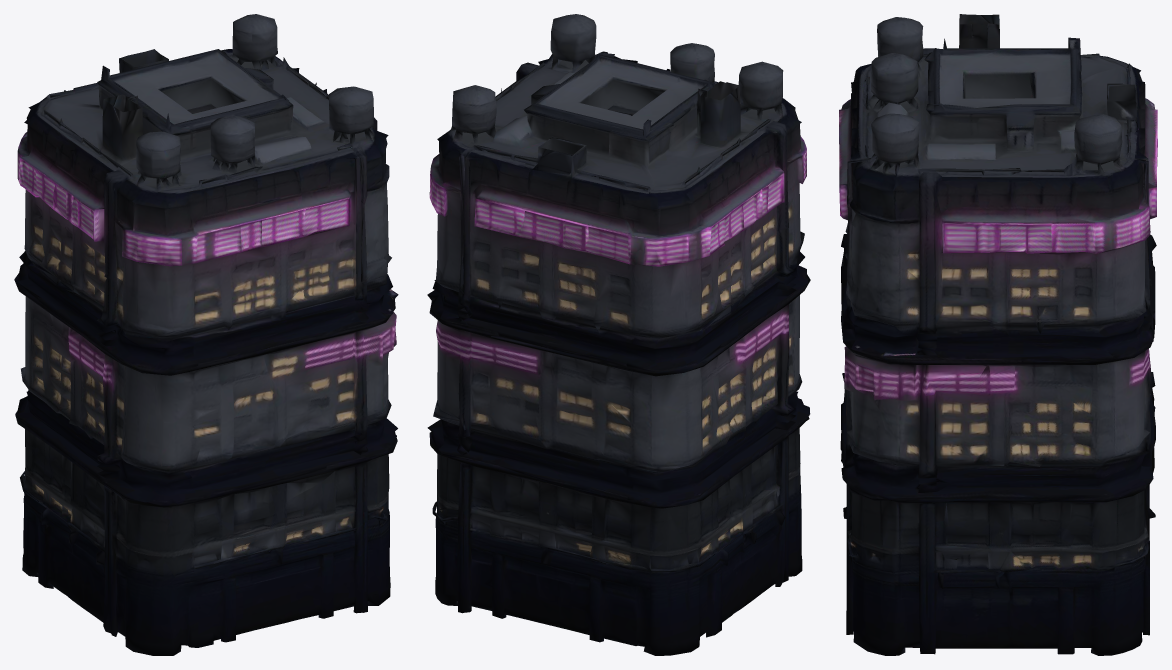
Rendered from building-b.glb.
The picture shows the model from 3 angles, left to right: view 1: azimuth 30°, elevation 25°; view 2: azimuth 150°, elevation 25°; view 3: azimuth 270°, elevation 25°; orthographic projection. The views are drawn at different scales.
Parts seen in each view (by area): view 1: tripo_node_d153532f-4f56-44ff-9050-5242a5492bc1; view 2: tripo_node_d153532f-4f56-44ff-9050-5242a5492bc1; view 3: tripo_node_d153532f-4f56-44ff-9050-5242a5492bc1.
Boxes of the visible parts, x1=… form: tripo_node_d153532f-4f56-44ff-9050-5242a5492bc1: x1=14, y1=14, x2=398, y2=655; tripo_node_d153532f-4f56-44ff-9050-5242a5492bc1: x1=427, y1=14, x2=810, y2=655; tripo_node_d153532f-4f56-44ff-9050-5242a5492bc1: x1=839, y1=14, x2=1157, y2=655.
Size of the model in its own units: 0.5775 by 1 by 0.55.
Materials: 1 (1 with a texture image).
